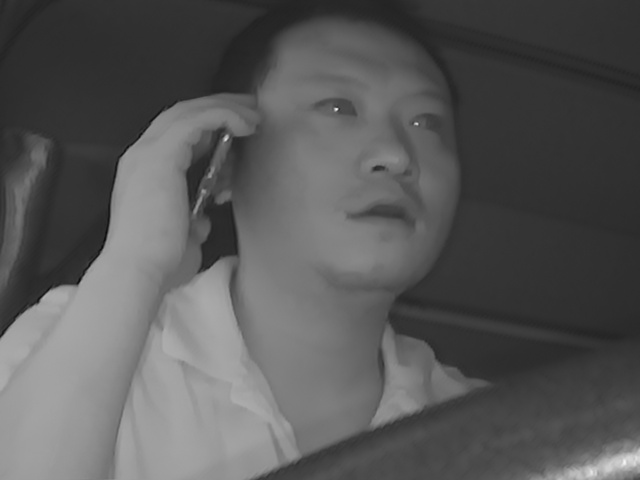hand: (114, 91, 237, 278)
